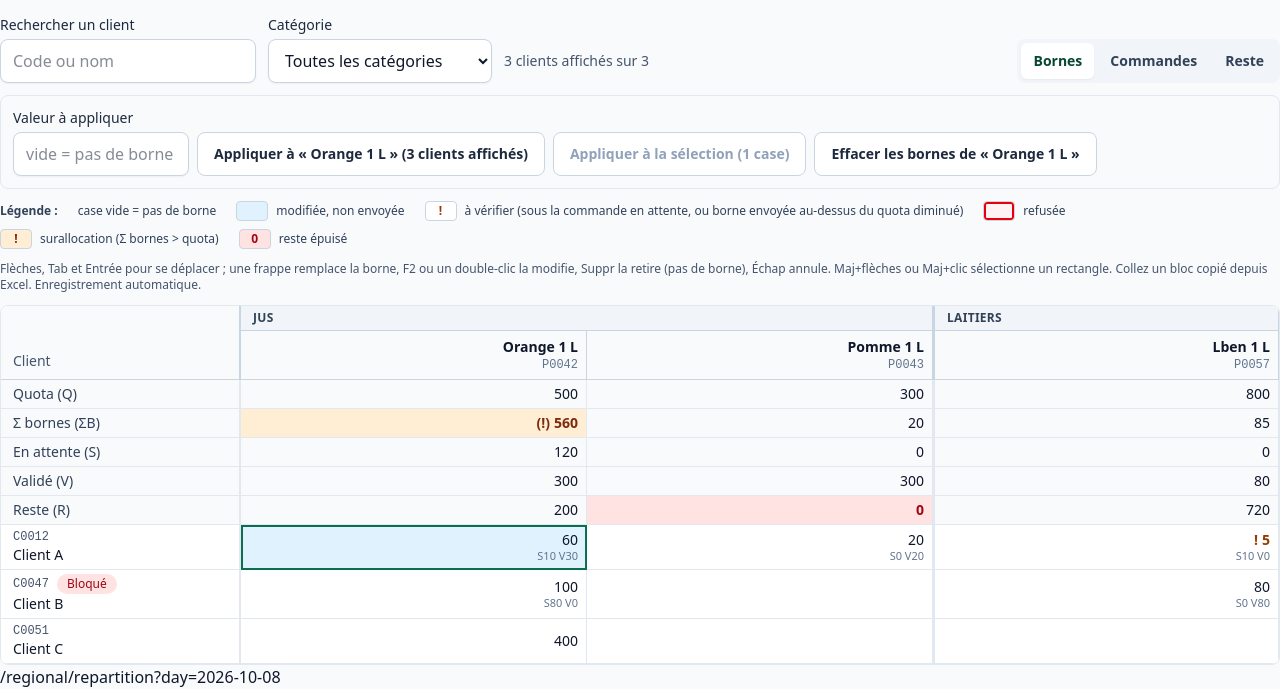
distribution — « Reprendre J-1 » › fills the empty cells after saving the pending edits
(page scrolled)
Click the cell named "C0051 Client C — Lben 1 L : pas de borne".
click(1106, 642)  # box [933,619,1279,664]
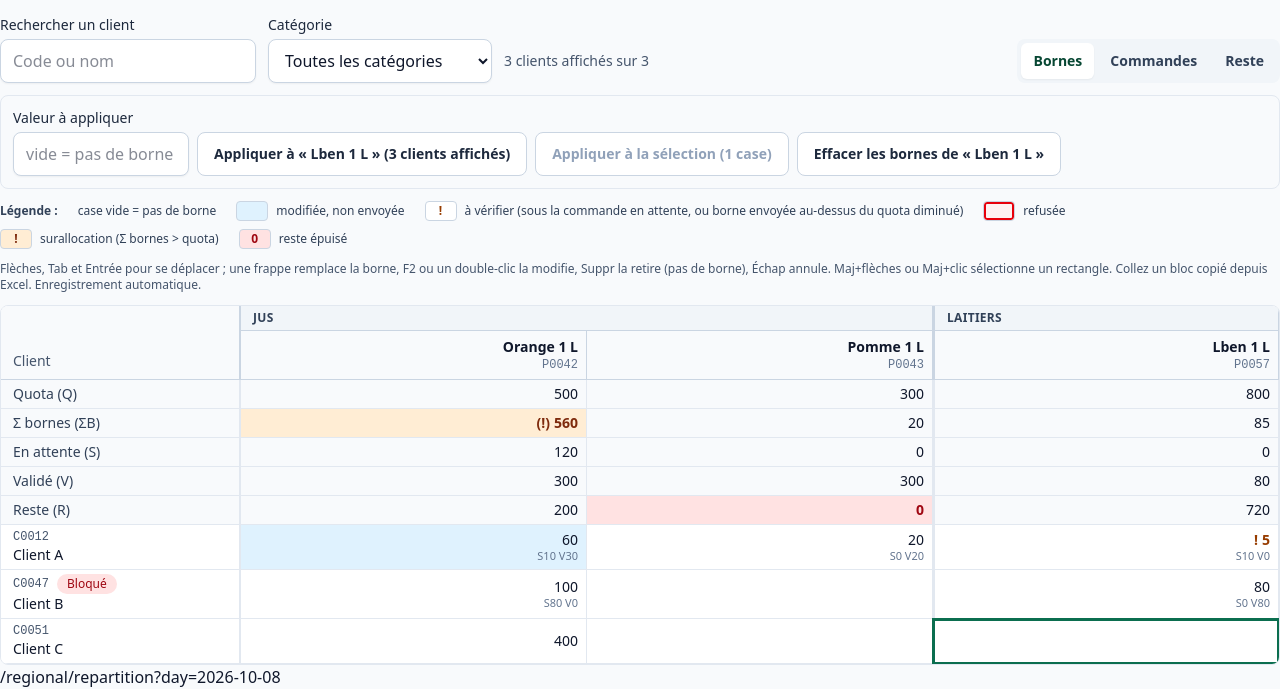
Type keys "12{Enter}"
(page scrolled)
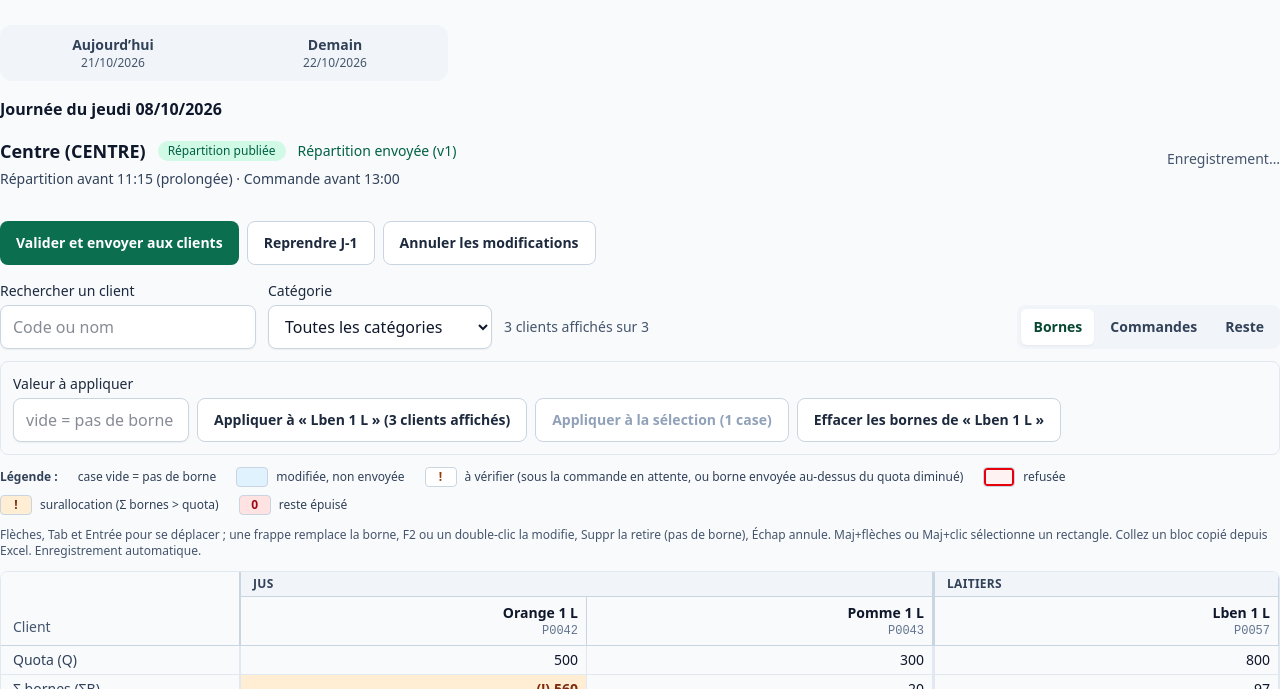
Click the button "Reprendre J-1".
click(311, 243)  # box [247,221,374,265]
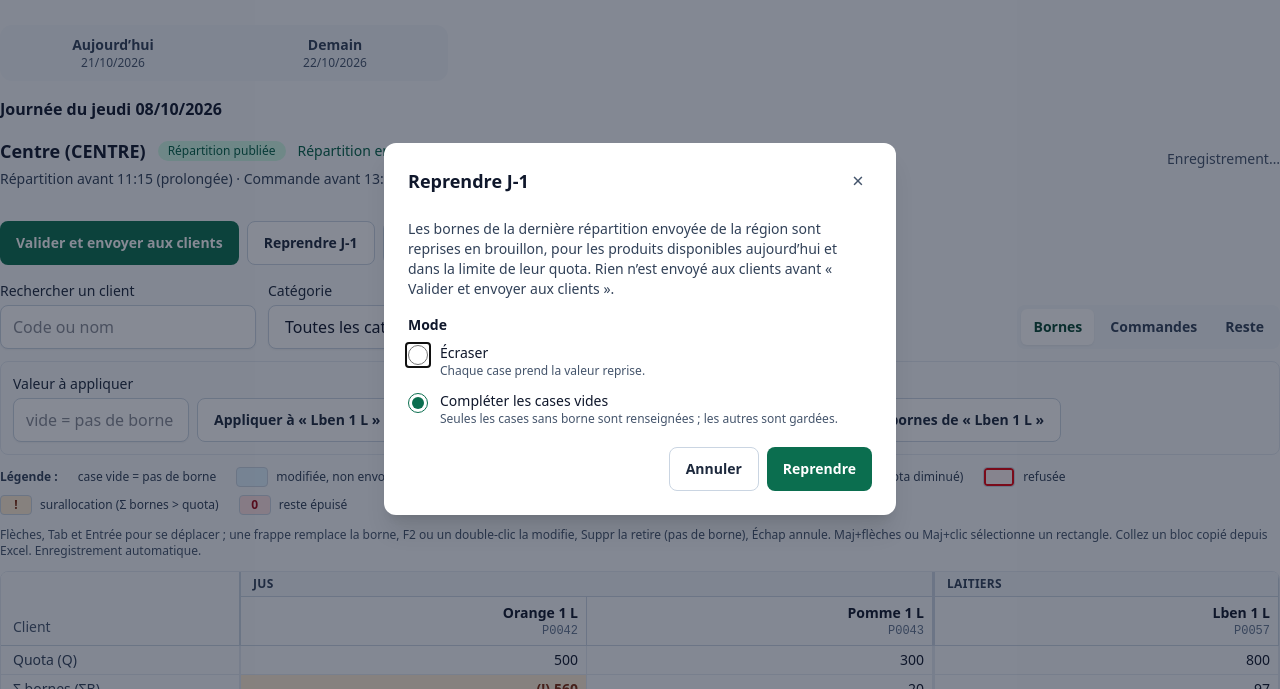
Click the button "Reprendre".
click(819, 469)  # box [767,447,872,491]
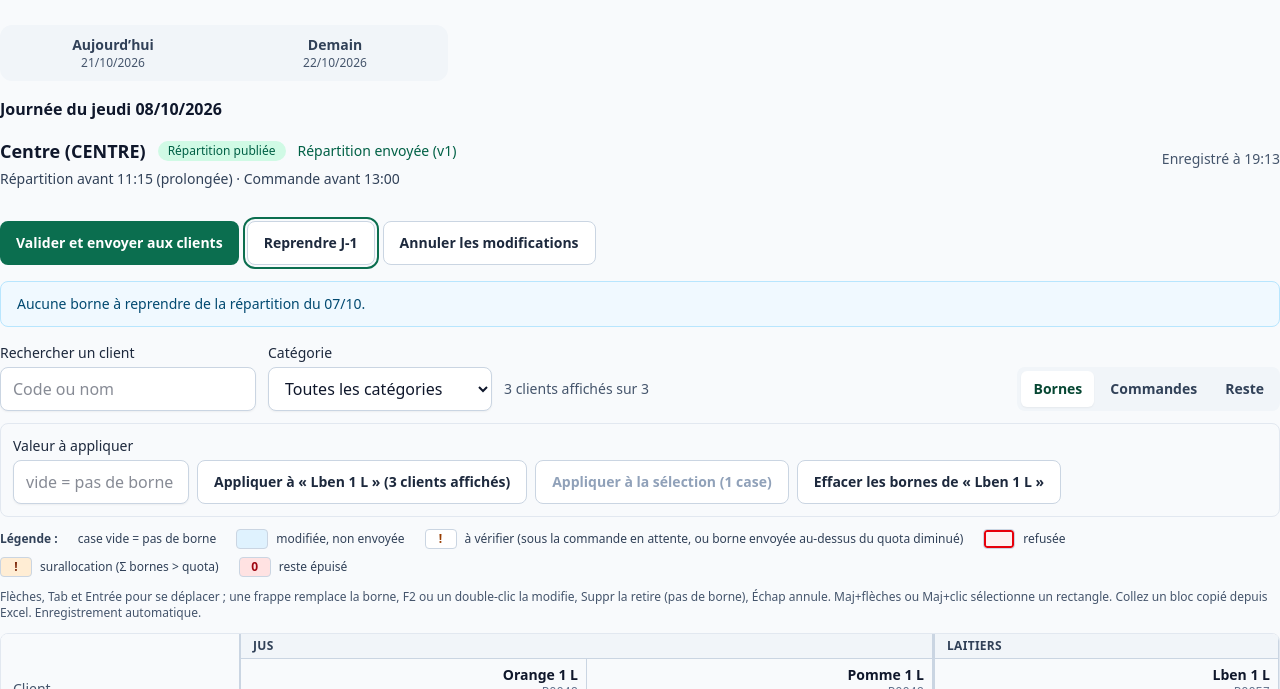
Check: the text "Aucune borne à reprendre de la répartition du 07/10." is shown, box [0,281,1279,327]
